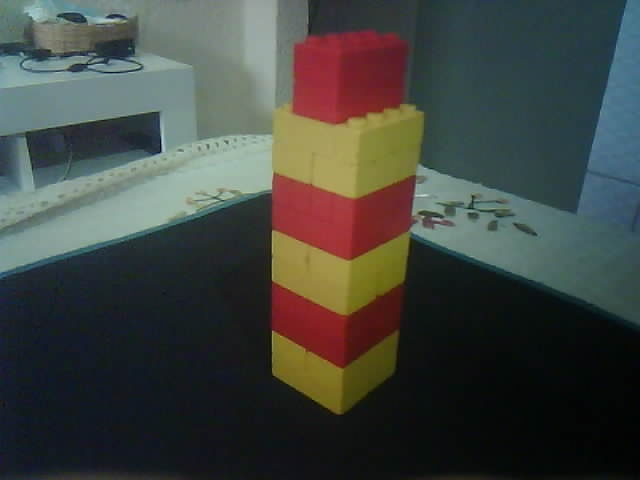lego: (269, 29, 425, 416)
